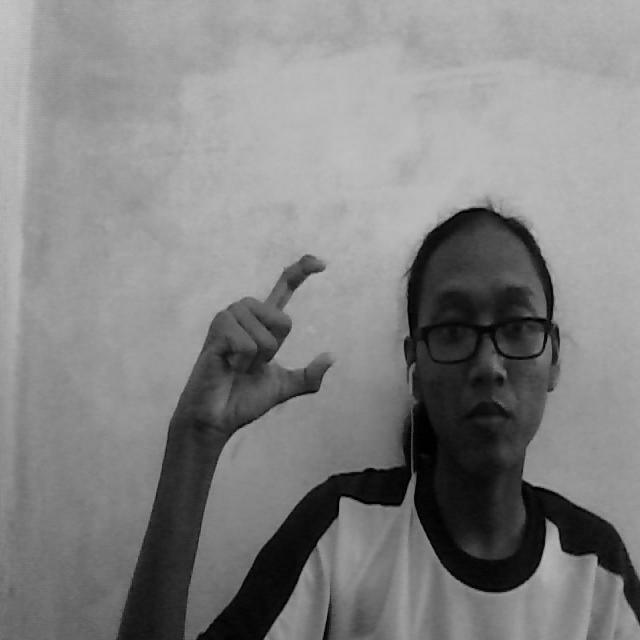C: (240, 250, 348, 393)
